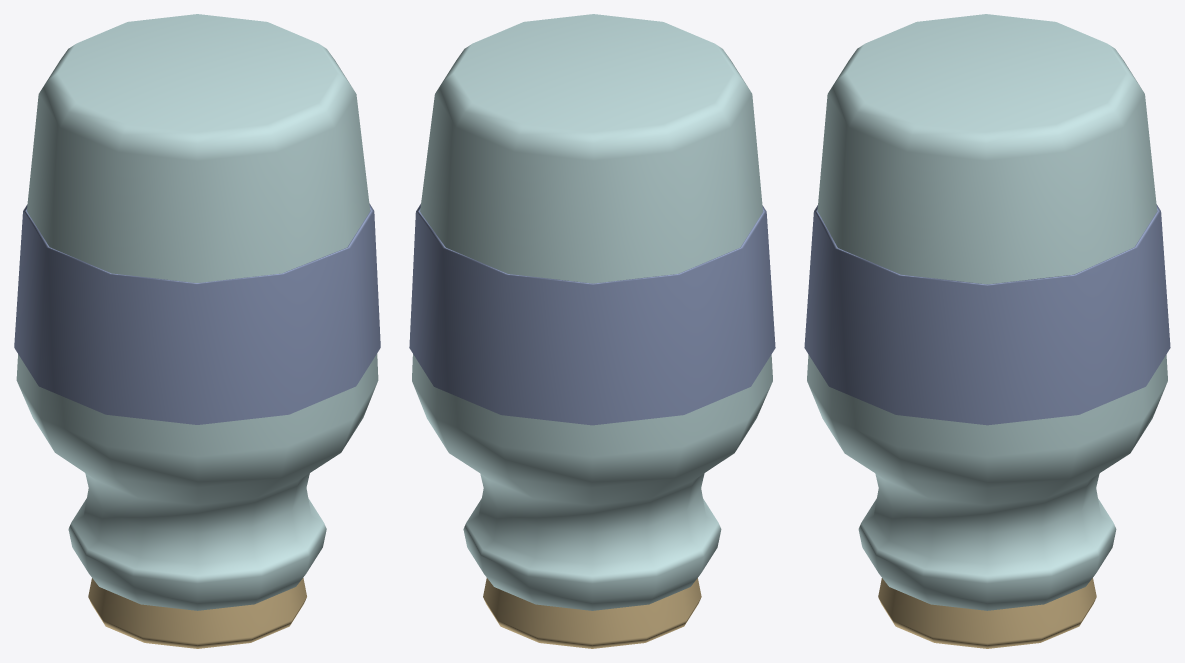
File: Atoll_MilkContainer.fbx
The picture shows the model from 3 angles, left to right: view 1: azimuth 30°, elevation 25°; view 2: azimuth 150°, elevation 25°; view 3: azimuth 270°, elevation 25°; orthographic projection.
Parts seen in each view (by area): view 1: Bottle, Label, Cork; view 2: Bottle, Label, Cork; view 3: Bottle, Label, Cork.
Part boxes in pixels (left/top/right/bottom): Bottle: left=16, top=14, right=378, bottom=610; Label: left=14, top=203, right=380, bottom=424; Cork: left=88, top=578, right=306, bottom=648; Bottle: left=412, top=14, right=772, bottom=610; Label: left=409, top=204, right=775, bottom=425; Cork: left=483, top=578, right=701, bottom=648; Bottle: left=807, top=14, right=1167, bottom=610; Label: left=804, top=204, right=1170, bottom=425; Cork: left=878, top=578, right=1096, bottom=648.
Bounding box in the file's own units: 1.31 × 2.1 × 1.31.
Materials: 2 (2 with a texture image).
